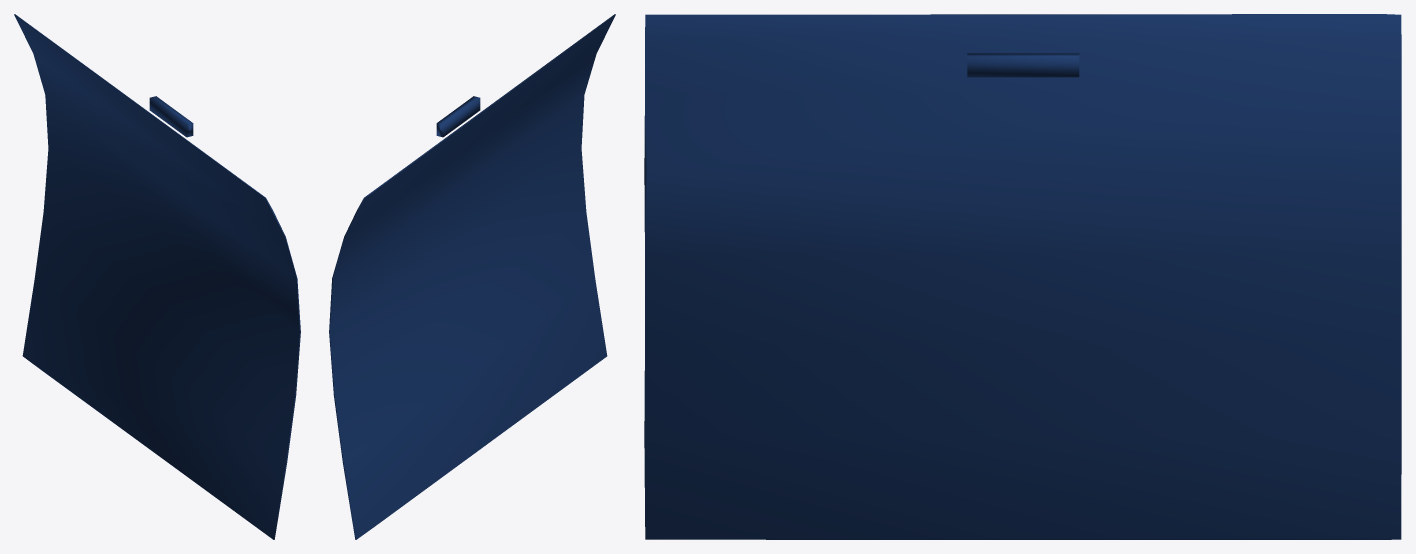
File: door_rear_l.glb
3 renders of one model, left to right at view 1: azimuth 30°, elevation 25°; view 2: azimuth 150°, elevation 25°; view 3: azimuth 270°, elevation 25°, orthographic. The views are drawn at different scales.
Parts seen in each view (by area): view 1: GEO_Door_Rear_L; view 2: GEO_Door_Rear_L; view 3: GEO_Door_Rear_L.
Part boxes in pixels (x1=…): GEO_Door_Rear_L: x1=14, y1=14, x2=300, y2=539; GEO_Door_Rear_L: x1=329, y1=14, x2=615, y2=539; GEO_Door_Rear_L: x1=644, y1=14, x2=1401, y2=539.
Size of the model in its own units: 0.0822 by 0.7564 by 0.999.
